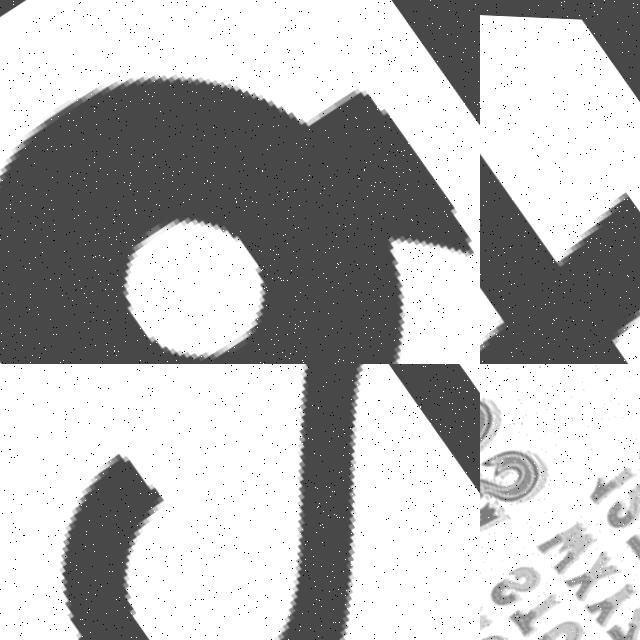1: (577, 455, 632, 501)
2: (0, 364, 480, 640), (590, 472, 640, 530)
3: (613, 501, 640, 559)
6: (623, 403, 640, 466)
Q: (0, 0, 480, 364)
